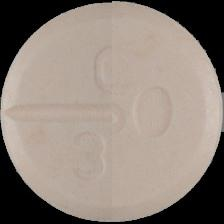67046-499: (0, 0, 224, 224)
